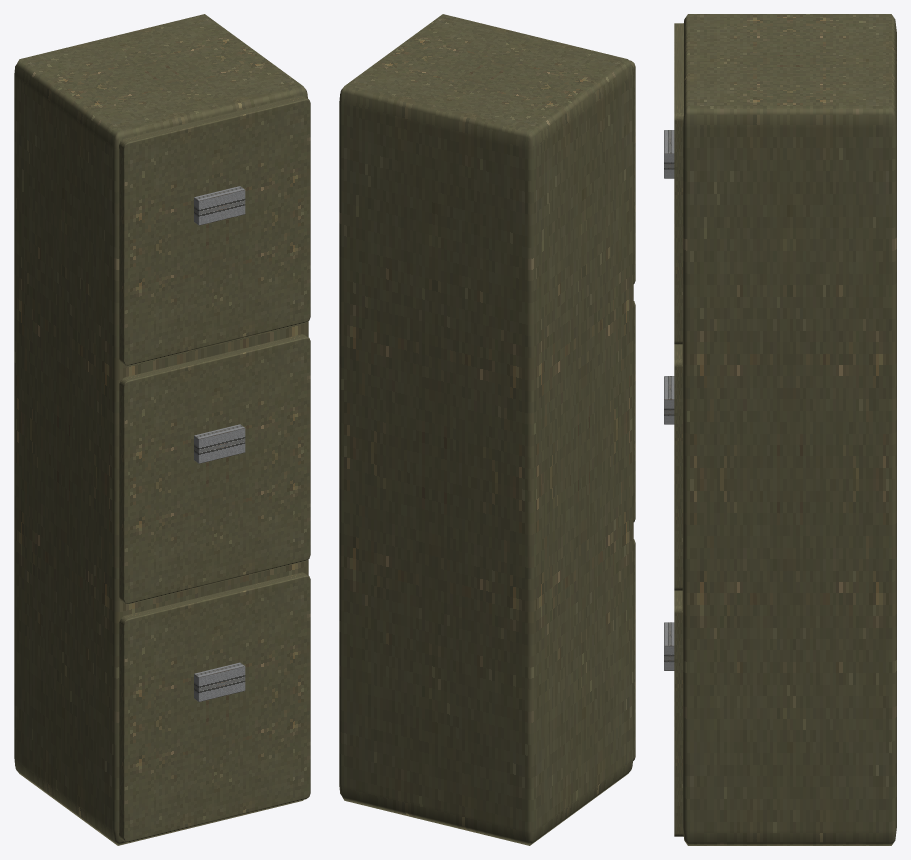
Rendered from wardrobe.glb.
3 renders of one model, left to right at view 1: azimuth 30°, elevation 25°; view 2: azimuth 150°, elevation 25°; view 3: azimuth 270°, elevation 25°, orthographic. The views are drawn at different scales.
Visible parts, largest first — view 1: front (×3), case, pull (×3); view 2: case, front (×3); view 3: case, front (×3), pull (×3).
Part boxes in pixels (x1,y1,x2,y2): front (×3): (119, 95, 310, 842); case: (14, 14, 308, 845); pull (×3): (194, 186, 245, 701); case: (339, 14, 633, 845); front (×3): (629, 60, 635, 760); case: (682, 14, 896, 845); front (×3): (674, 23, 683, 836); pull (×3): (664, 130, 674, 670).
Size of the model in its own units: 0.52 by 1.82 by 0.52.
Materials: 2 (2 with a texture image).
